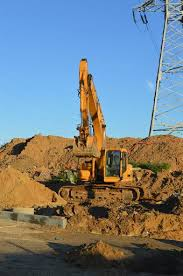excavator: (60, 57, 144, 207)
